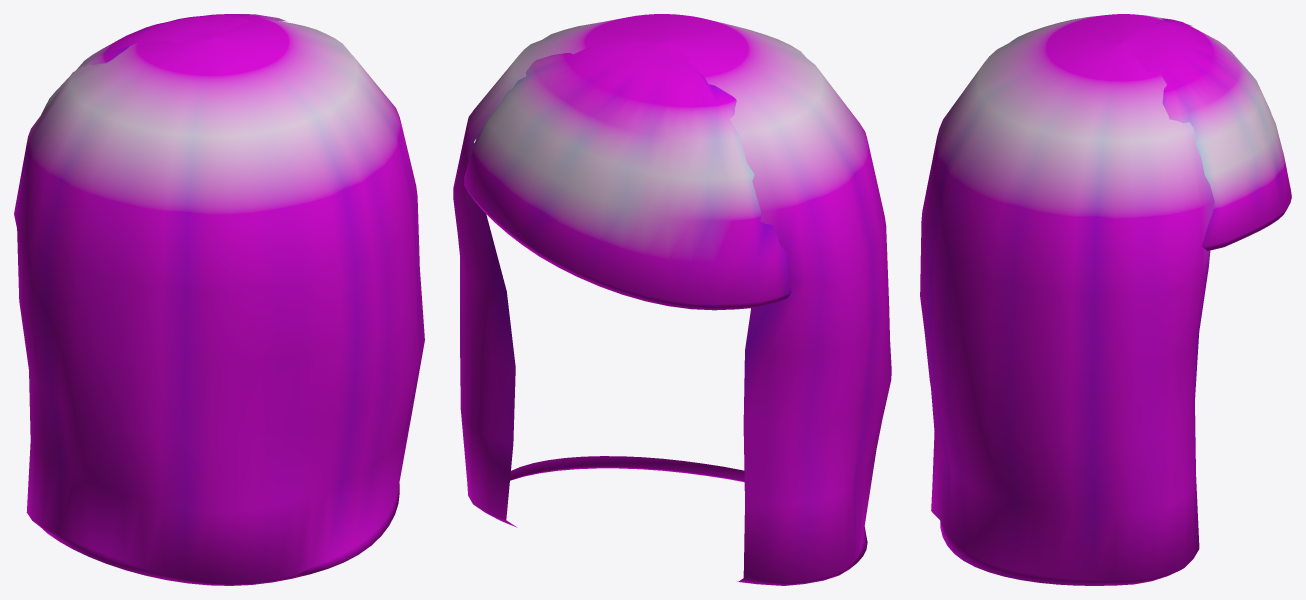
The model's file is long_low.glb.
The picture shows the model from 3 angles, left to right: view 1: azimuth 30°, elevation 25°; view 2: azimuth 150°, elevation 25°; view 3: azimuth 270°, elevation 25°; orthographic projection. The views are drawn at different scales.
Visible parts, largest first — view 1: long; view 2: long; view 3: long.
Boxes of the visible parts, box(x1,y1,x2,y2) form: long: box(14, 14, 424, 585); long: box(453, 14, 891, 585); long: box(920, 14, 1291, 585).
Size of the model in its own units: 1.09 by 1.33 by 0.9258.
